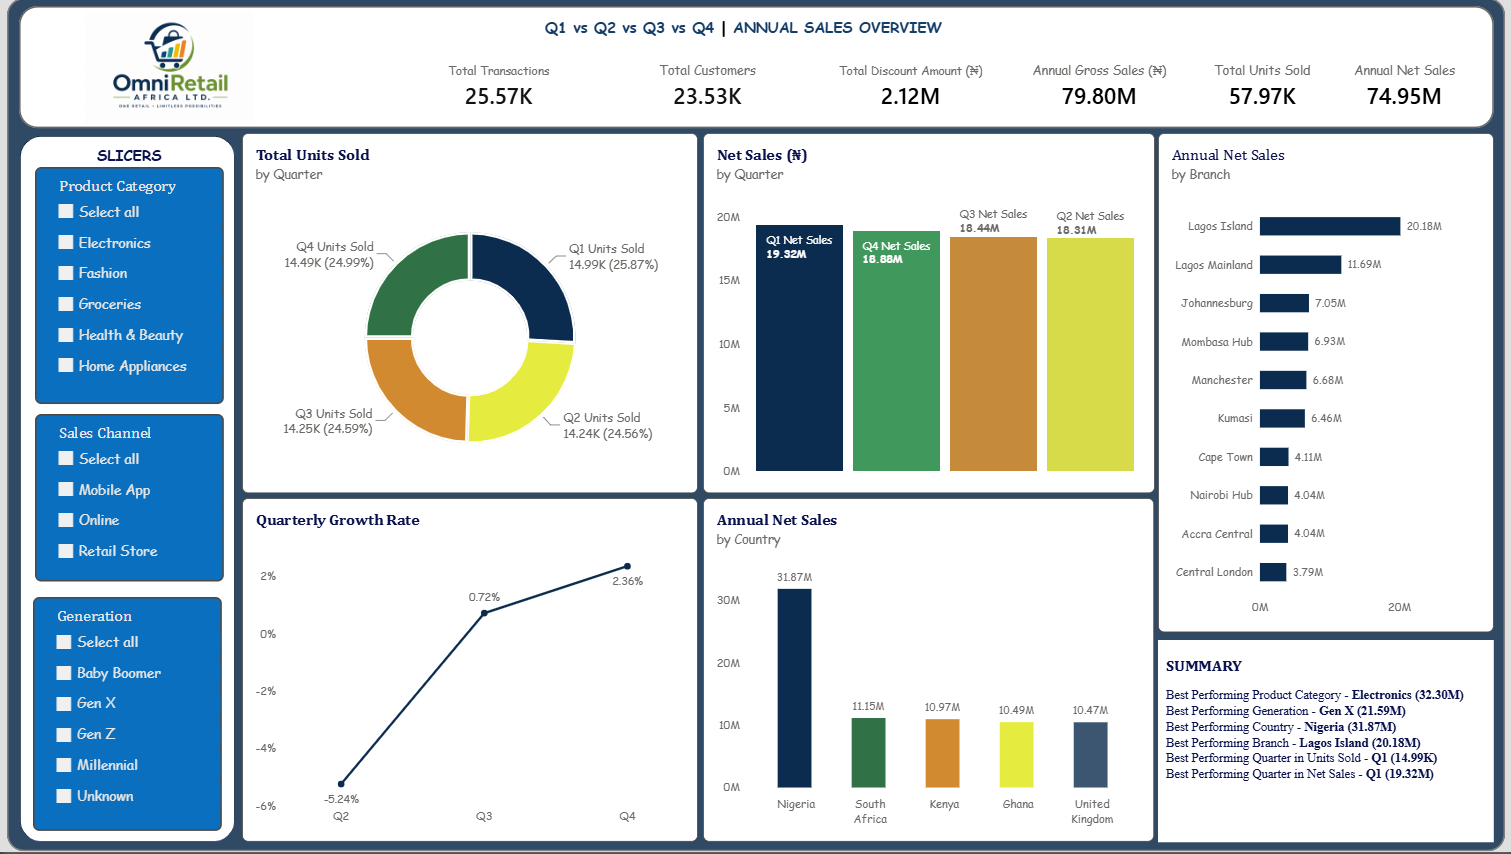

This screenshot's page, from the dashboard's own definition file:
{"tool":"powerbi","page":{"name":"Quarterly Sales Comparison","canvas":[1920,1080],"ordinal":16},"visuals":[{"type":"shape","box":[10.1,0,1896,1080],"z":0},{"type":"shape","box":[25.3,10.7,1866.7,154.7],"z":1000},{"type":"image","box":[37.3,16,358.7,142.7],"z":2000},{"type":"shape","box":[26.7,174.7,272,893.3],"z":3000},{"type":"cardVisual","fields":{"Data":["Quarter.Annual Gross Sales (₦)"]},"box":[1289.3,69.3,206.7,84],"z":4000},{"type":"cardVisual","fields":{"Data":["Quarter.Total Discount Amount (₦)"]},"box":[1046.7,69.3,214.7,84],"z":5000},{"type":"cardVisual","fields":{"Data":["Quarter.Total Units Sold"]},"box":[1505,69.3,188,84],"z":6000},{"type":"cardVisual","fields":{"Data":["Quarter.Annual Net Sales"]},"box":[1690.7,69.3,176,84],"z":7000},{"type":"textbox","box":[690.7,22.7,553.3,46.7],"z":8000},{"type":"pieChart","title":"Total Units Sold","fields":{"Y":["Sum(Q1 Sales.Quantity)","Sum(Q2 Sales.Quantity)","Sum(Q3 Sales.Quantity)","Sum(Q4 Sales.Quantity)"]},"box":[308,170.7,577.3,456],"z":9000},{"type":"slicer","fields":{"Values":["Product Categories.Category"]},"box":[45.3,213.3,238.7,300],"z":10000},{"type":"slicer","fields":{"Values":["Sales Channel.Sales Channel"]},"box":[45.3,526.7,238.7,212],"z":11000},{"type":"slicer","fields":{"Values":["Generations.Generation"]},"box":[42.7,758.7,238.7,296],"z":12000},{"type":"clusteredColumnChart","title":"Net Sales (₦)","fields":{"Y":["Quarter.Q1 Net Sales","Quarter.Q2 Net Sales","Quarter.Q3 Net Sales","Quarter.Q4 Net Sales"]},"box":[890.7,170.7,572,456],"z":13000},{"type":"lineChart","title":"Quarterly Growth Rate","fields":{"Category":["Quarter.Quarter"],"Y":["Quarter.Quarterly Growth %"]},"box":[308,633.3,577.3,434.7],"z":14000},{"type":"textbox","box":[46,185.4,238.6,27.3],"z":15000},{"type":"cardVisual","fields":{"Data":["Quarter.Total Transactions"]},"box":[540,69.3,184,84],"z":16000},{"type":"cardVisual","fields":{"Data":["Quarter.Total Customers"]},"box":[746.7,69.3,300,84],"z":18000},{"type":"textbox","title":"SUMMARY","box":[1466.7,812,425.3,256],"z":19000},{"type":"clusteredColumnChart","title":"Annual Net Sales","fields":{"Category":["Countries.Country"],"Y":["Countries.Annual Net Sales for Countries"]},"box":[890.7,633.3,570.5,435.4],"z":19002},{"type":"clusteredBarChart","fields":{"Category":["Branches.Branch"],"Y":["Quarter.Annual Net Sales"]},"box":[1466.7,170.7,425.3,632],"z":19003}]}

Visuals, with their boxes in screenshot pixels (x1, y1, x2, y2), scaled from the page's 1920x1080 canvas onto the 1511x854 screenshot:
shape: <region>8, 0, 1500, 853</region>
shape: <region>20, 8, 1489, 131</region>
image: <region>29, 13, 312, 125</region>
shape: <region>21, 138, 235, 845</region>
cardVisual - Quarter.Annual Gross Sales (₦): <region>1015, 55, 1177, 121</region>
cardVisual - Quarter.Total Discount Amount (₦): <region>824, 55, 993, 121</region>
cardVisual - Quarter.Total Units Sold: <region>1184, 55, 1332, 121</region>
cardVisual - Quarter.Annual Net Sales: <region>1331, 55, 1469, 121</region>
textbox: <region>544, 18, 979, 55</region>
"Total Units Sold" pieChart: <region>242, 135, 697, 496</region>
slicer - Product Categories.Category: <region>36, 169, 224, 406</region>
slicer - Sales Channel.Sales Channel: <region>36, 416, 224, 584</region>
slicer - Generations.Generation: <region>34, 600, 221, 834</region>
"Net Sales (₦)" clusteredColumnChart: <region>701, 135, 1151, 496</region>
"Quarterly Growth Rate" lineChart: <region>242, 501, 697, 845</region>
textbox: <region>36, 147, 224, 168</region>
cardVisual - Quarter.Total Transactions: <region>425, 55, 570, 121</region>
cardVisual - Quarter.Total Customers: <region>588, 55, 824, 121</region>
"SUMMARY" textbox: <region>1154, 642, 1489, 845</region>
"Annual Net Sales" clusteredColumnChart: <region>701, 501, 1150, 845</region>
clusteredBarChart - Branches.Branch x Quarter.Annual Net Sales: <region>1154, 135, 1489, 635</region>
